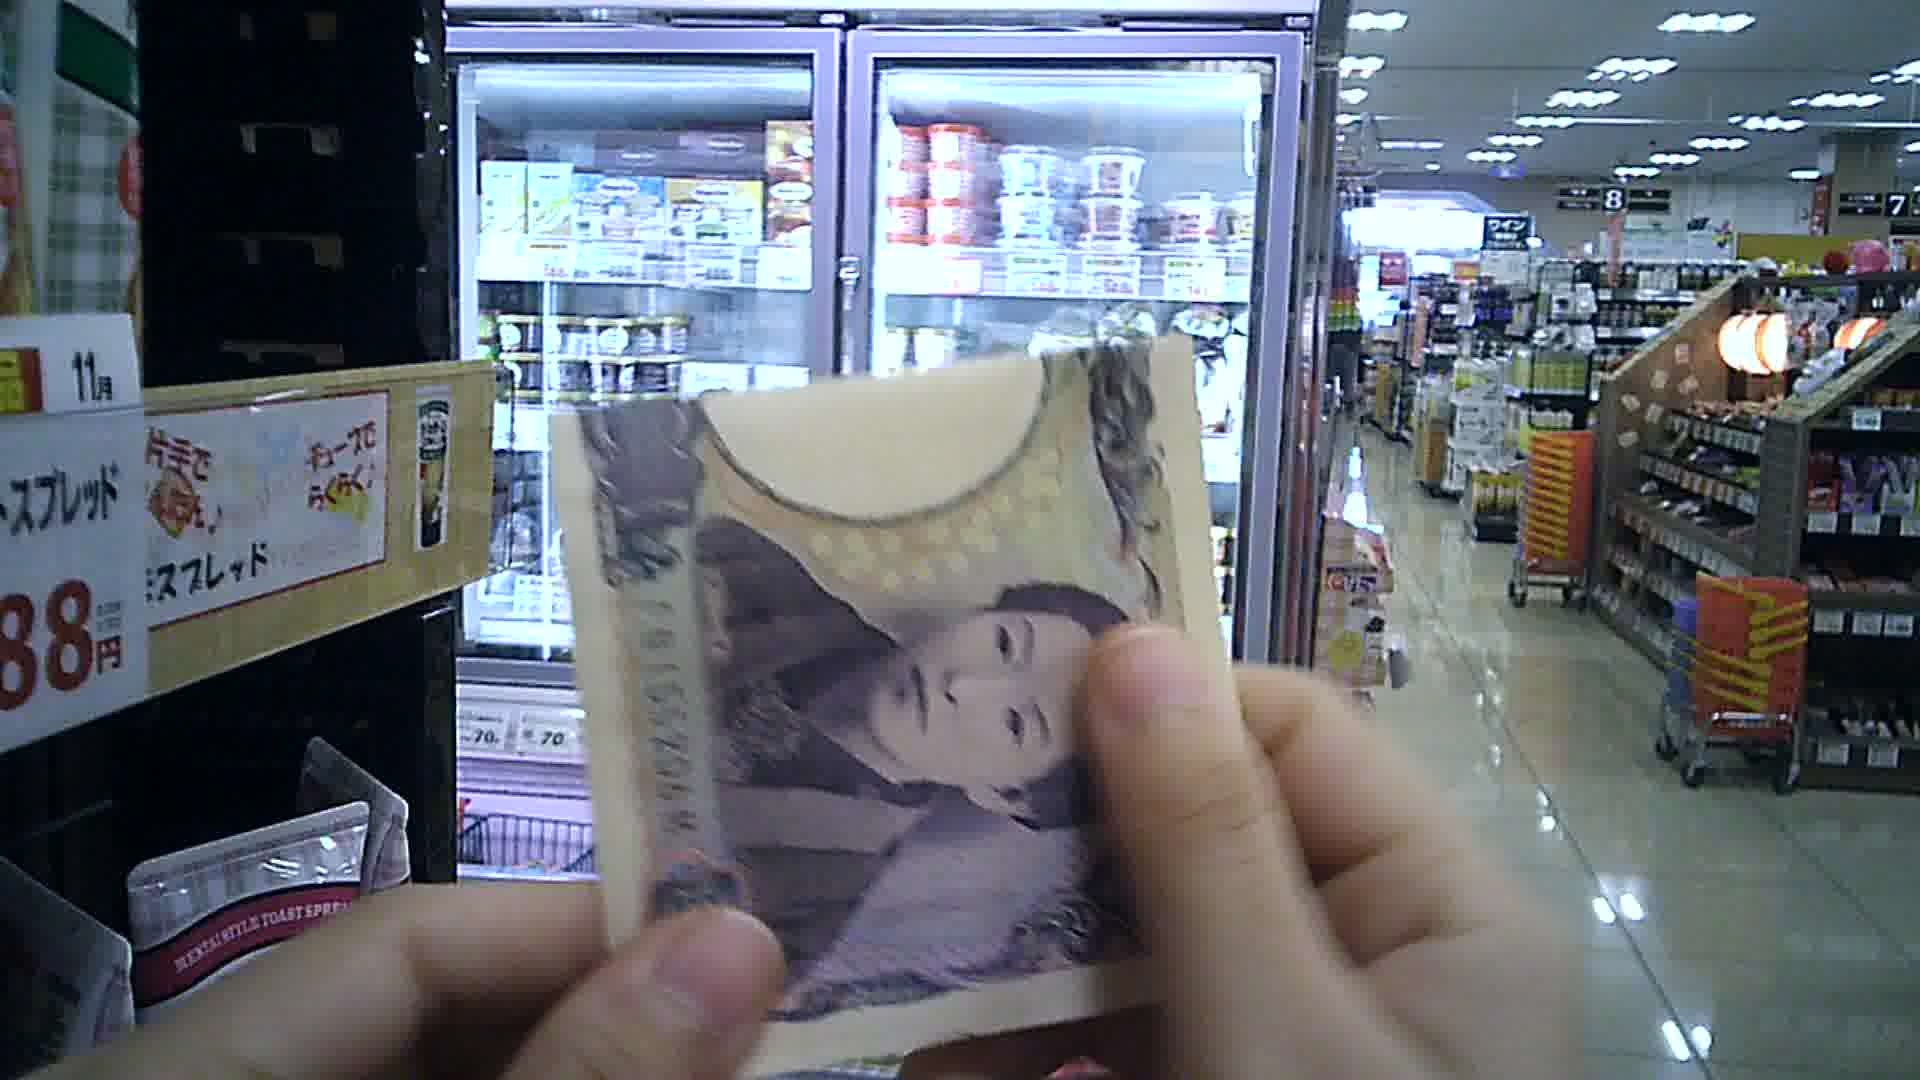5,000 Yen: (543, 319, 1261, 1054)
